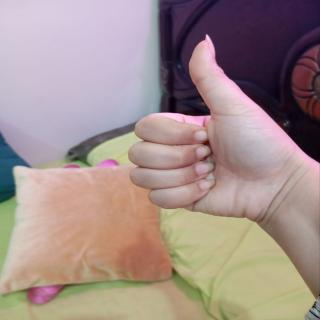ALIF: (122, 31, 299, 252)
